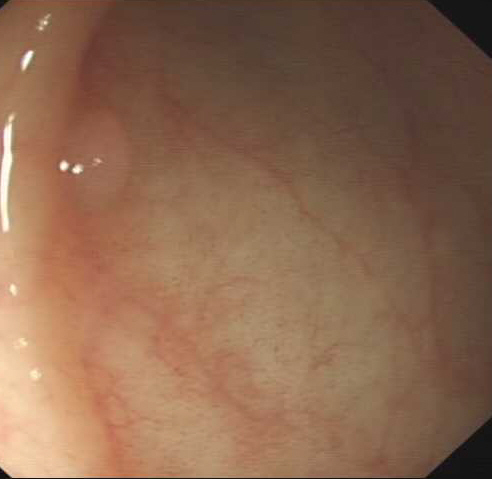others: (60, 94, 135, 206)
